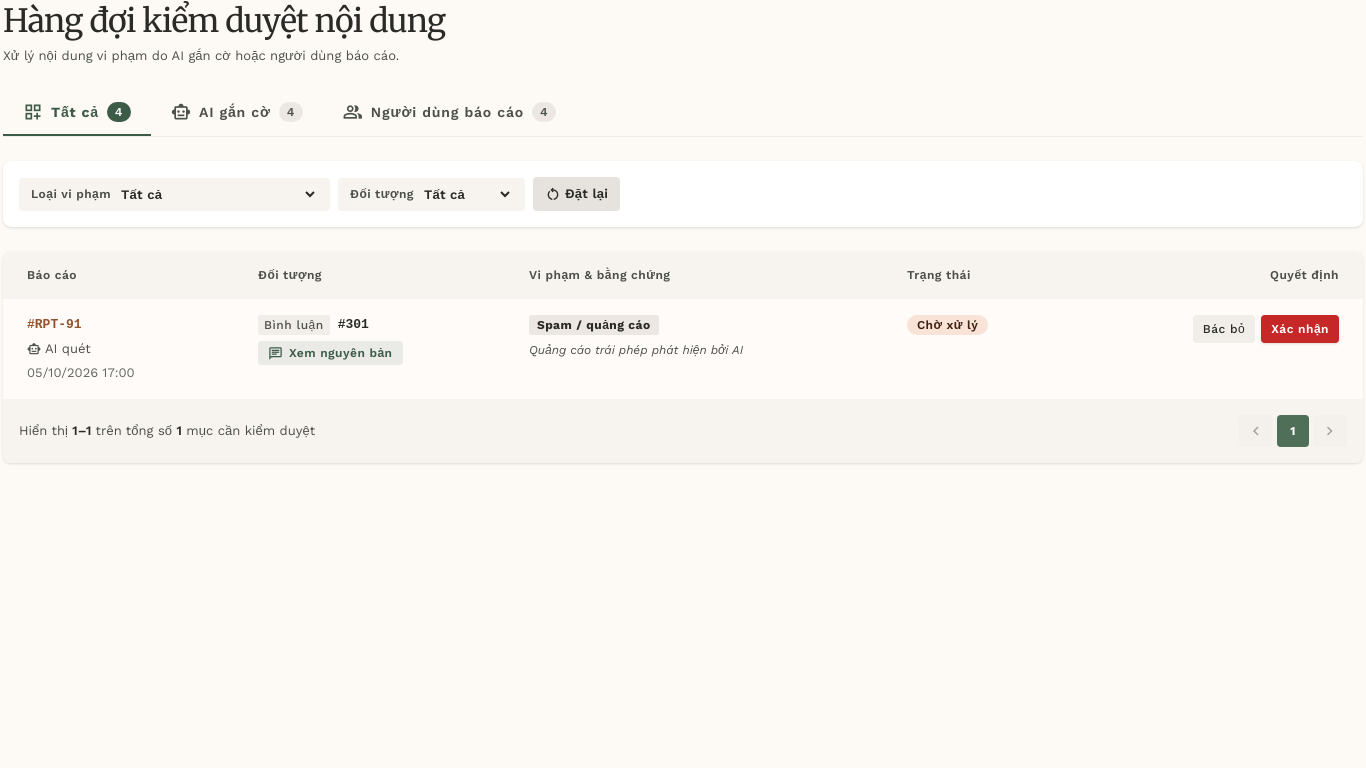
Test case: Hàng đợi kiểm duyệt 2 Tab (SCR-34) › quyết định xử lý yêu cầu ghi chú 10–500 ký tự
Later steps or results of the test are not shown.
Step 1. Click the button "Xác nhận" → (1300, 329), box [1261,315,1339,343]
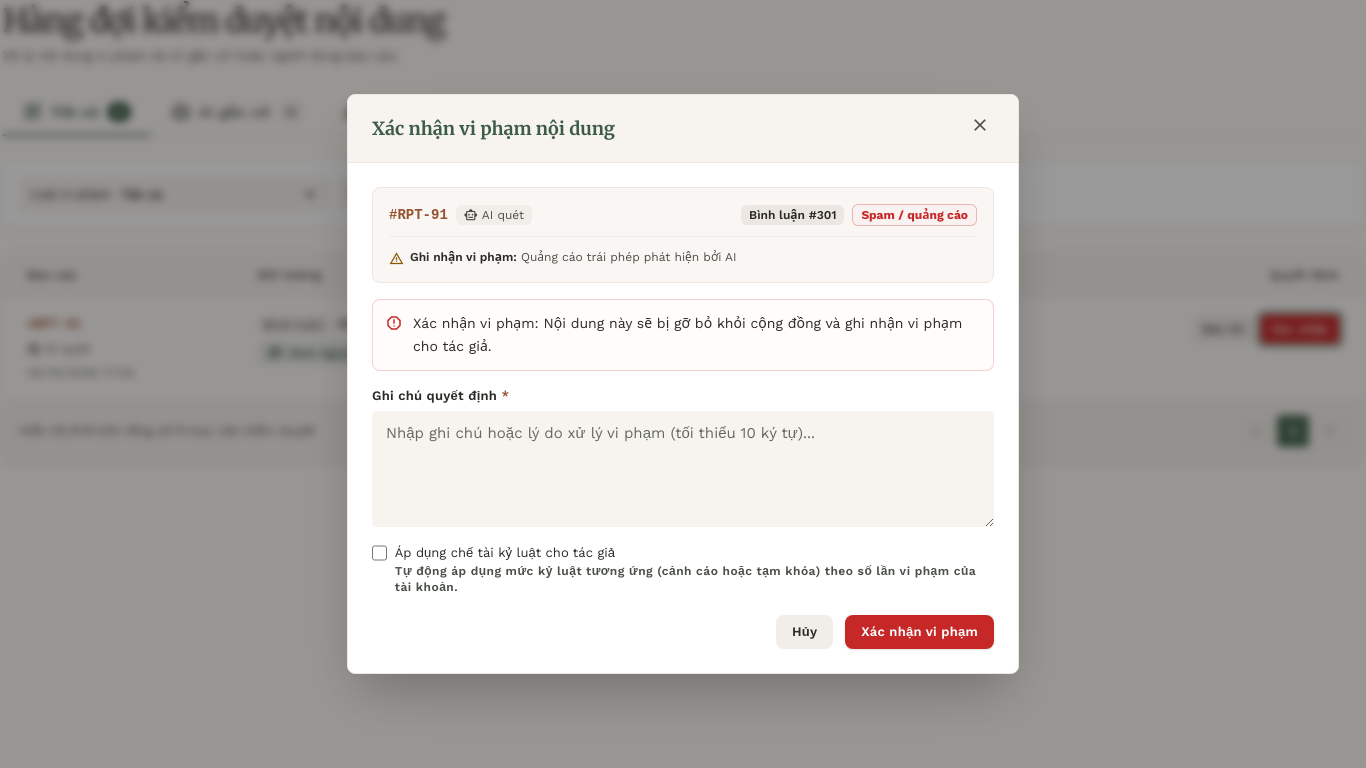
Step 2. Type "ngắn" into the text box labelled "Ghi chú quyết định *" → (683, 469), box [372,411,994,527]
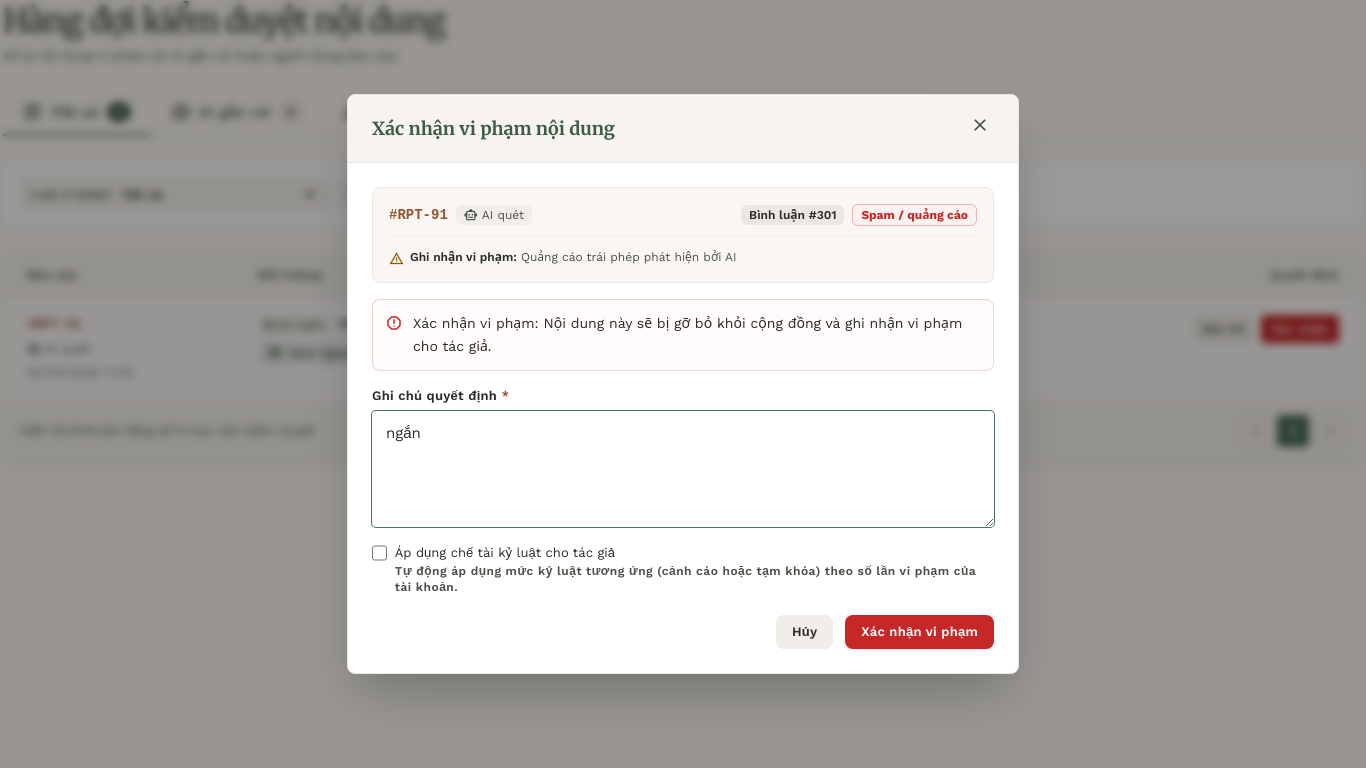
Step 3. Click the button "Xác nhận vi phạm" → (920, 632), box [845,615,994,649]
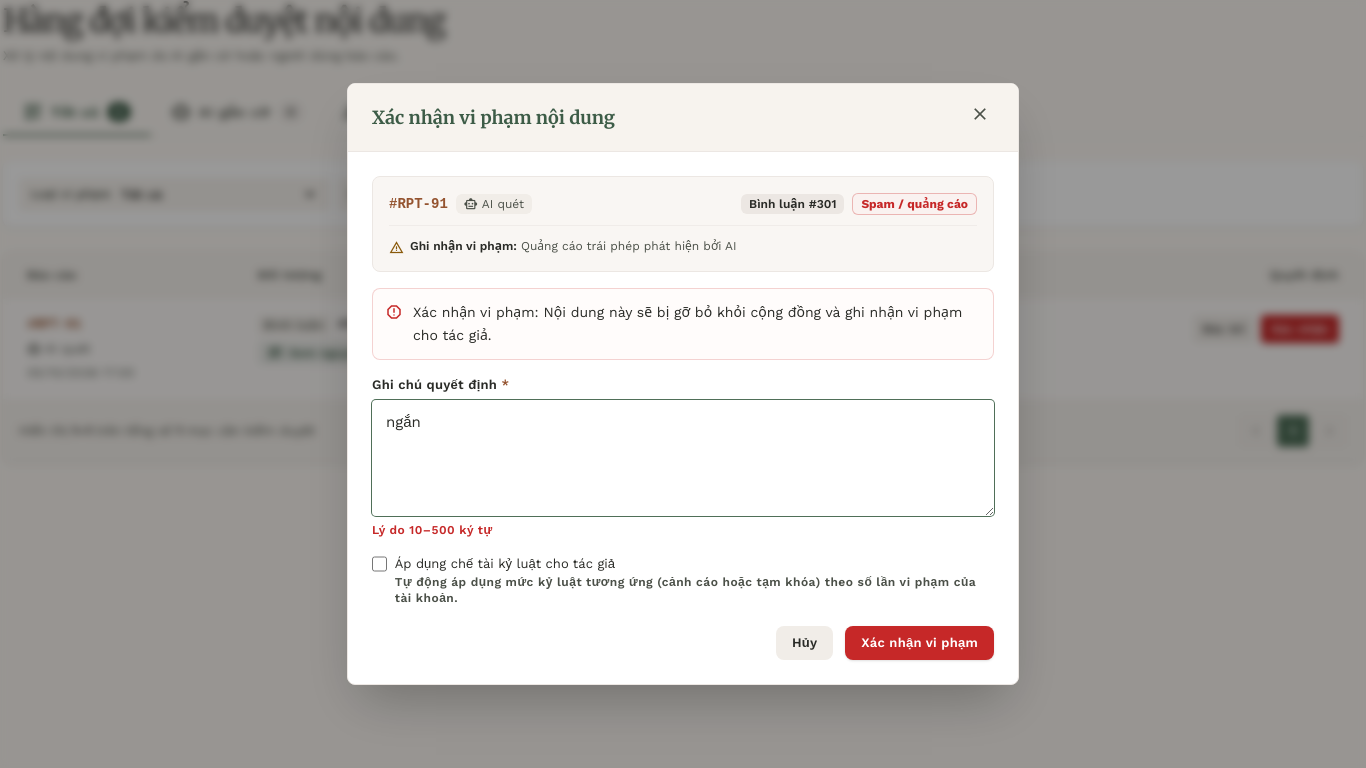
Expected: the text "Lý do 10–500 ký tự" is shown, [372,523,493,537]
